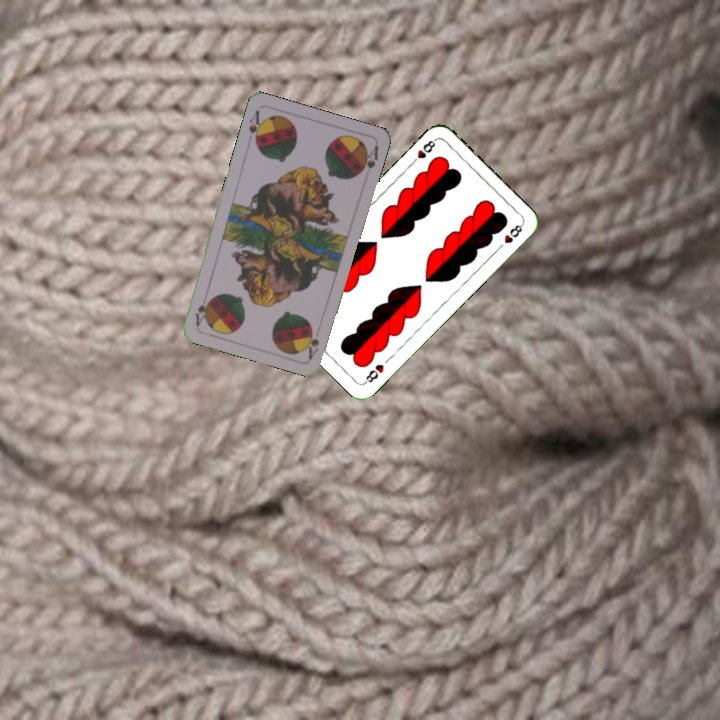H8: (407, 135, 439, 167), (360, 360, 387, 386)
SA: (245, 106, 266, 148), (304, 328, 321, 361)
